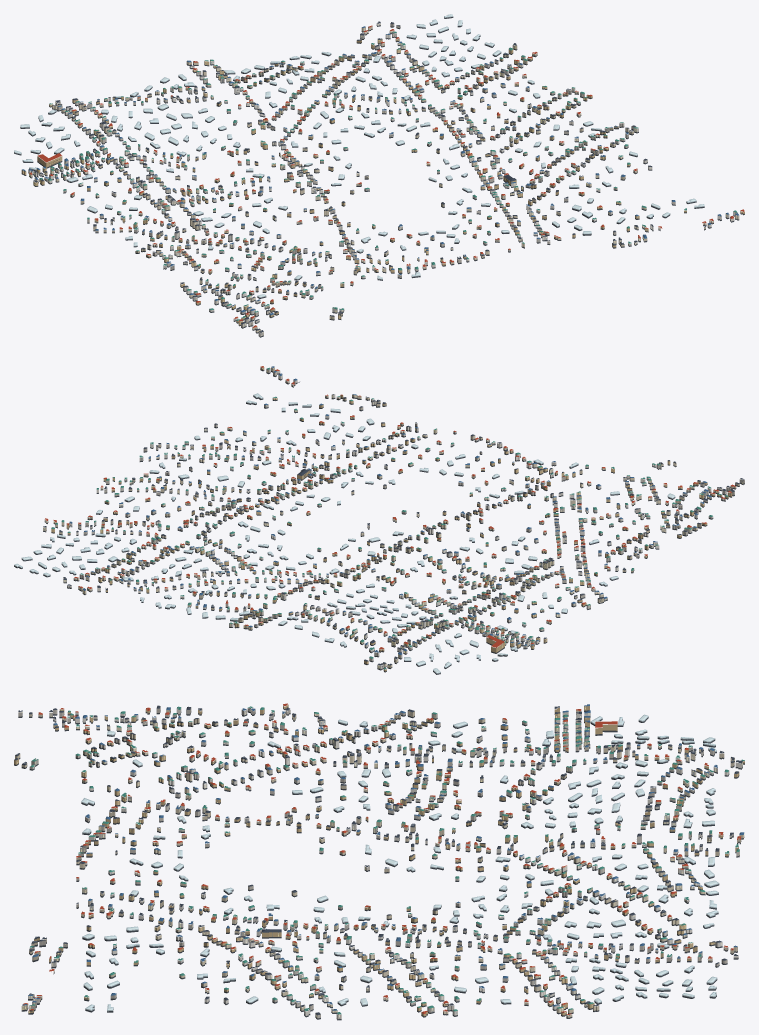
File: osm_buildings_T_E00_N01.glb
The picture shows the model from 3 angles, top to bottom: view 1: azimuth 30°, elevation 25°; view 2: azimuth 150°, elevation 25°; view 3: azimuth 270°, elevation 25°; orthographic projection. The views are drawn at different scales.
Visible parts, largest first — view 1: OSM_T_E00_N01_foundation, OSM_T_E00_N01_greenhouse_blend, OSM_T_E00_N01_wall_cream_stucco, OSM_T_E00_N01_wall_french_ochre, OSM_T_E00_N01_wall_pastel_sand, OSM_T_E00_N01_wall_warm_white, OSM_T_E00_N01_roof_mansard_slate, OSM_T_E00_N01_roof_mint_metal, OSM_T_E00_N01_roof_terracotta, OSM_T_E00_N01_roof_alpine_blue; view 2: OSM_T_E00_N01_foundation, OSM_T_E00_N01_greenhouse_blend, OSM_T_E00_N01_wall_cream_stucco, OSM_T_E00_N01_wall_french_ochre, OSM_T_E00_N01_wall_pastel_sand, OSM_T_E00_N01_wall_warm_white, OSM_T_E00_N01_roof_mansard_slate, OSM_T_E00_N01_roof_mint_metal, OSM_T_E00_N01_roof_terracotta, OSM_T_E00_N01_roof_alpine_blue; view 3: OSM_T_E00_N01_foundation, OSM_T_E00_N01_greenhouse_blend, OSM_T_E00_N01_wall_cream_stucco, OSM_T_E00_N01_wall_french_ochre, OSM_T_E00_N01_wall_pastel_sand, OSM_T_E00_N01_wall_warm_white, OSM_T_E00_N01_roof_mansard_slate, OSM_T_E00_N01_roof_mint_metal, OSM_T_E00_N01_roof_terracotta, OSM_T_E00_N01_roof_alpine_blue, OSM_T_E00_N01_roof_mansard_deck.
Part boxes in pixels (x1=…): OSM_T_E00_N01_foundation: x1=14, y1=17, x2=744, y2=337; OSM_T_E00_N01_greenhouse_blend: x1=14, y1=14, x2=704, y2=297; OSM_T_E00_N01_wall_cream_stucco: x1=29, y1=26, x2=739, y2=332; OSM_T_E00_N01_wall_french_ochre: x1=21, y1=39, x2=744, y2=325; OSM_T_E00_N01_wall_pastel_sand: x1=57, y1=23, x2=737, y2=336; OSM_T_E00_N01_wall_warm_white: x1=28, y1=23, x2=734, y2=322; OSM_T_E00_N01_roof_mansard_slate: x1=33, y1=21, x2=705, y2=332; OSM_T_E00_N01_roof_mint_metal: x1=39, y1=31, x2=737, y2=320; OSM_T_E00_N01_roof_terracotta: x1=29, y1=25, x2=744, y2=327; OSM_T_E00_N01_roof_alpine_blue: x1=22, y1=26, x2=738, y2=315; OSM_T_E00_N01_foundation: x1=14, y1=369, x2=744, y2=674; OSM_T_E00_N01_greenhouse_blend: x1=14, y1=393, x2=675, y2=673; OSM_T_E00_N01_wall_cream_stucco: x1=43, y1=367, x2=739, y2=667; OSM_T_E00_N01_wall_french_ochre: x1=51, y1=367, x2=732, y2=671; OSM_T_E00_N01_wall_pastel_sand: x1=63, y1=368, x2=744, y2=658; OSM_T_E00_N01_wall_warm_white: x1=67, y1=370, x2=725, y2=669; OSM_T_E00_N01_roof_mansard_slate: x1=43, y1=382, x2=744, y2=665; OSM_T_E00_N01_roof_mint_metal: x1=51, y1=367, x2=728, y2=669; OSM_T_E00_N01_roof_terracotta: x1=45, y1=366, x2=735, y2=649; OSM_T_E00_N01_roof_alpine_blue: x1=69, y1=366, x2=711, y2=654; OSM_T_E00_N01_foundation: x1=14, y1=707, x2=744, y2=1020; OSM_T_E00_N01_greenhouse_blend: x1=81, y1=714, x2=719, y2=1011; OSM_T_E00_N01_wall_cream_stucco: x1=15, y1=708, x2=744, y2=1017; OSM_T_E00_N01_wall_french_ochre: x1=14, y1=705, x2=744, y2=1016; OSM_T_E00_N01_wall_pastel_sand: x1=18, y1=706, x2=727, y2=1018; OSM_T_E00_N01_wall_warm_white: x1=22, y1=707, x2=742, y2=1015; OSM_T_E00_N01_roof_mansard_slate: x1=14, y1=705, x2=742, y2=1015; OSM_T_E00_N01_roof_mint_metal: x1=29, y1=706, x2=744, y2=1014; OSM_T_E00_N01_roof_terracotta: x1=23, y1=703, x2=741, y2=1014; OSM_T_E00_N01_roof_alpine_blue: x1=22, y1=704, x2=744, y2=1010; OSM_T_E00_N01_roof_mansard_deck: x1=16, y1=716, x2=733, y2=1002.
Bounding box in the file's own units: 1986 × 92.9 × 1968.
